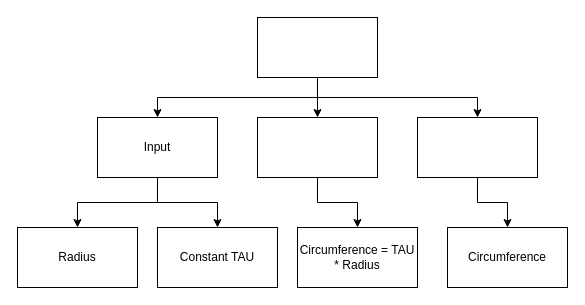
The diagram is 585 pixels wide and 305 high, and some of its shapes have lost their labels. The box of each missing label's shape, as (x1, y1, x2, y2) in pixels:
Circumference of a Circle Using TAU: (256, 16, 378, 78)
Output: (416, 116, 538, 178)
Process: (256, 116, 378, 178)
